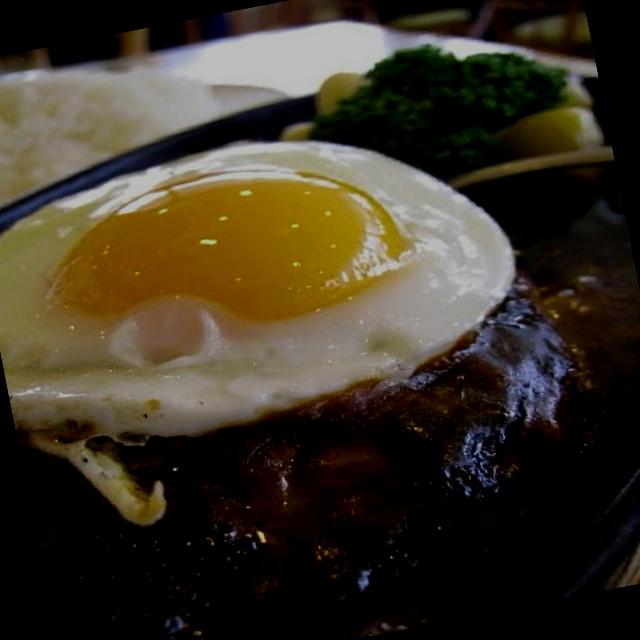Egg: (0, 121, 493, 459)
